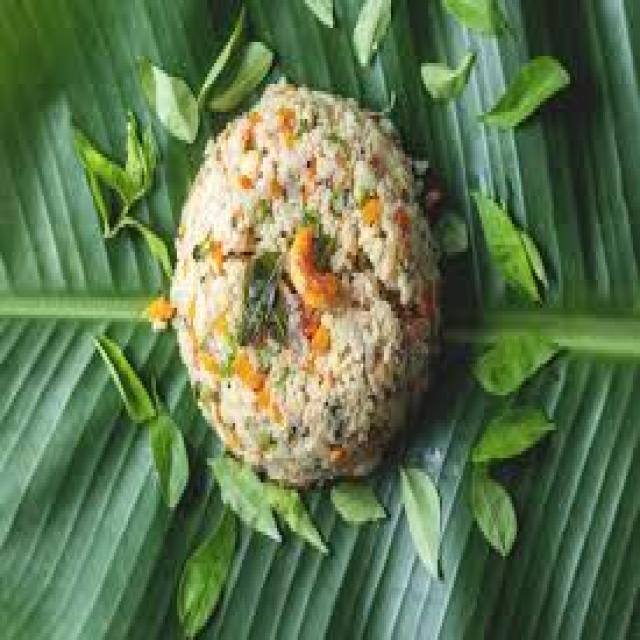UPMA: (168, 84, 442, 483)
